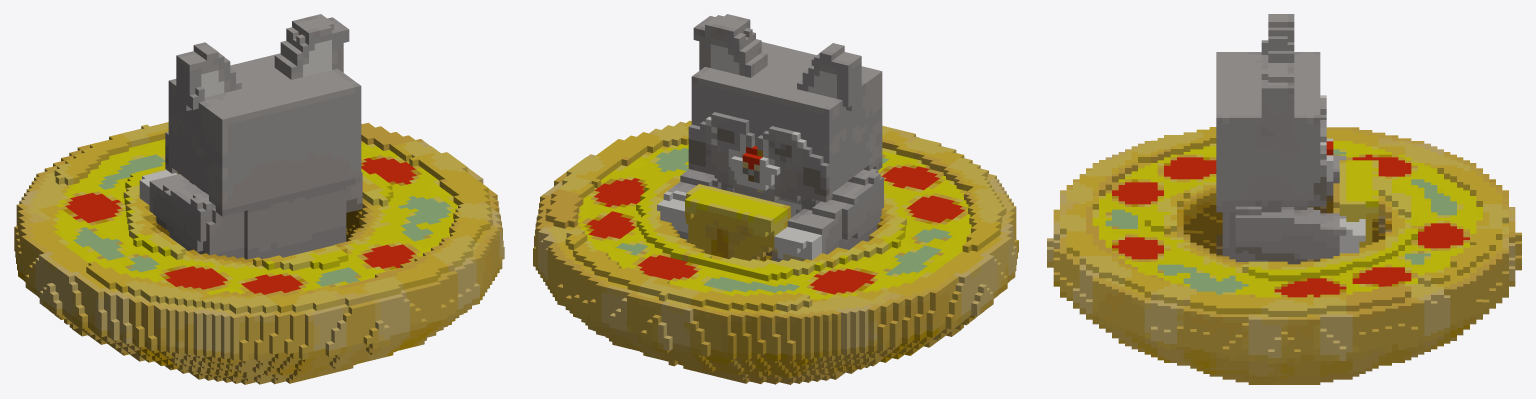
Rendered from GattoPizzanave.glb.
3 views of the same model, side by side, from view 1: azimuth 30°, elevation 25°; view 2: azimuth 150°, elevation 25°; view 3: azimuth 270°, elevation 25° (orthographic). The views are drawn at different scales.
Visible parts, largest first — view 1: geometry_0; view 2: geometry_0; view 3: geometry_0.
Part boxes in pixels (box(x1,y1,x2,y2)): geometry_0: box(14, 14, 504, 384); geometry_0: box(533, 14, 1018, 384); geometry_0: box(1047, 14, 1521, 384).
Size of the model in its own units: 1.49 by 1 by 1.49.
